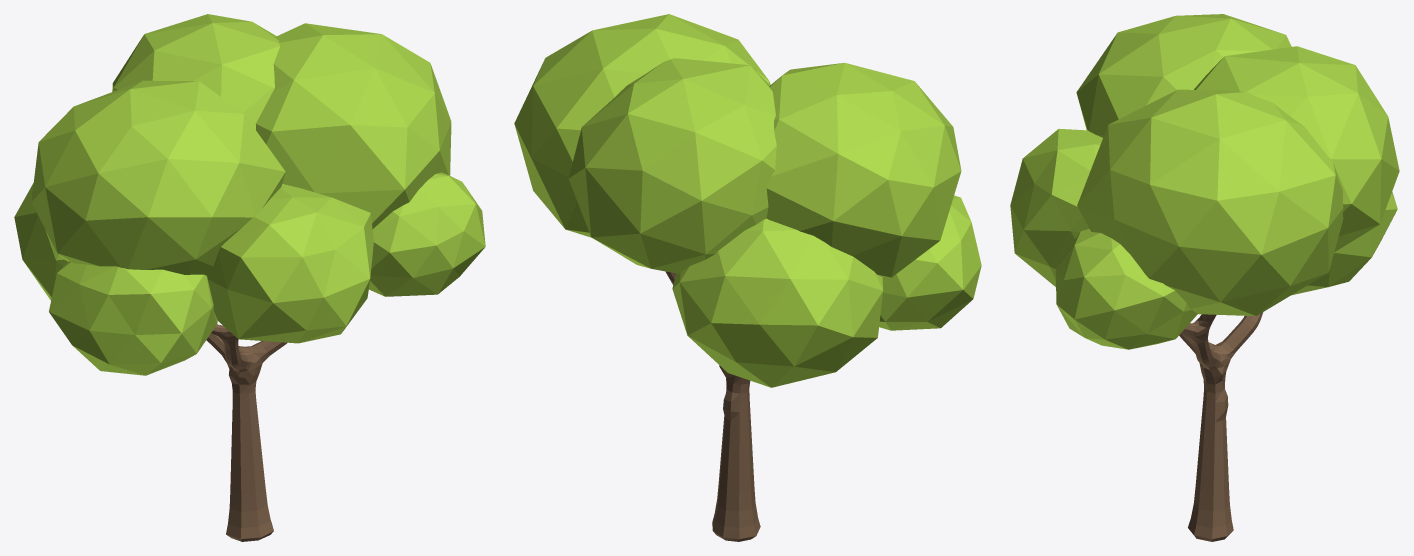
Rendered from tree-4.glb.
3 renders of one model, left to right at view 1: azimuth 30°, elevation 25°; view 2: azimuth 150°, elevation 25°; view 3: azimuth 270°, elevation 25°, orthographic. The views are drawn at different scales.
Parts seen in each view (by area): view 1: Tree.001; view 2: Tree.001; view 3: Tree.001.
Boxes of the visible parts, x1,y1,x2,y2 form: Tree.001: (14, 14, 485, 541); Tree.001: (514, 14, 981, 541); Tree.001: (1010, 14, 1399, 541).
Size of the model in its own units: 0.2126 by 0.2414 by 0.1782.
1 material, 1 textured.
